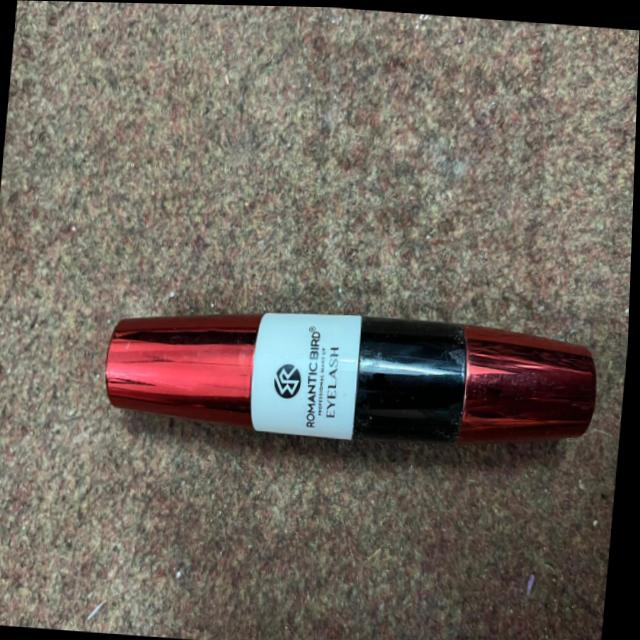lip stick: (78, 259, 613, 494)
